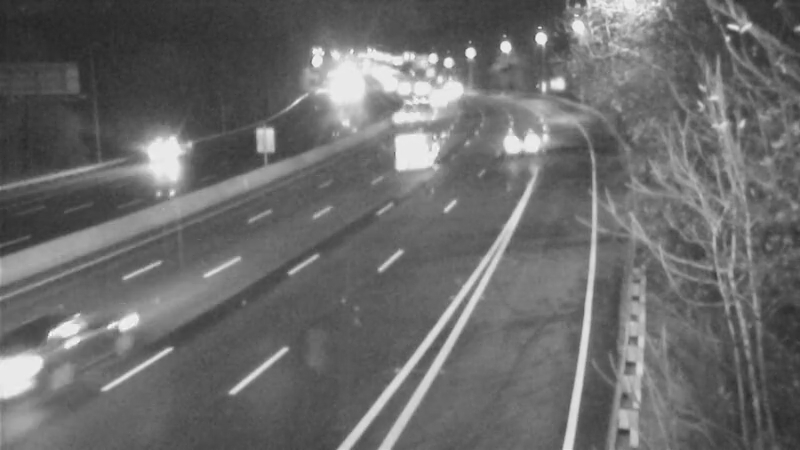vehicle: (18, 294, 128, 404), (115, 119, 195, 199), (429, 63, 479, 113), (378, 65, 428, 115), (391, 65, 441, 115), (409, 72, 459, 122), (388, 77, 438, 127), (381, 93, 431, 143), (379, 124, 429, 174), (491, 120, 541, 170)
